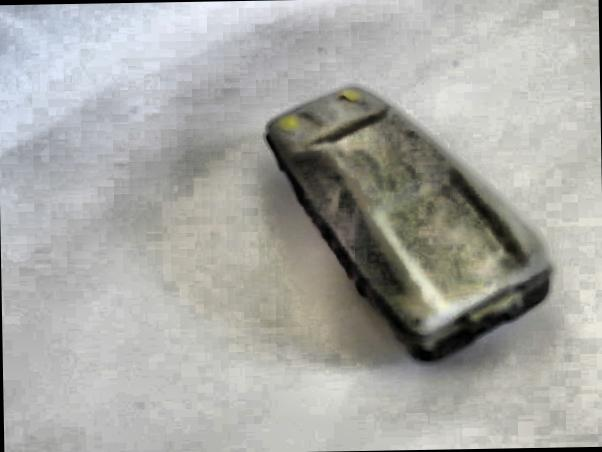normal_car: (259, 78, 558, 369)
